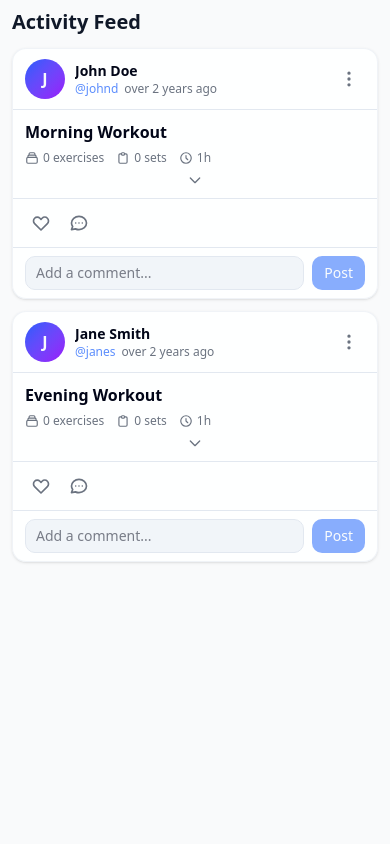
Test case: Feed › Pull to refresh › should show pull indicator when pulling down
Press the mouse on the element with test id "feed-scroll-container" at {"x": 195, "y": 311}, box 0,0 -> 389,622
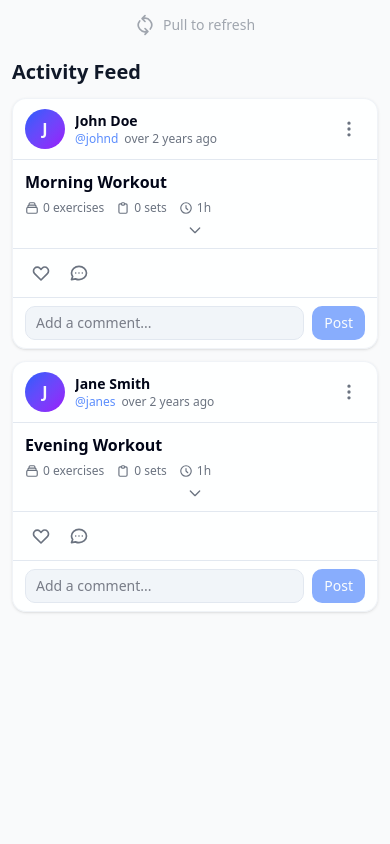
Expected: the text "Pull to refresh" is shown, 163,15 -> 255,35
